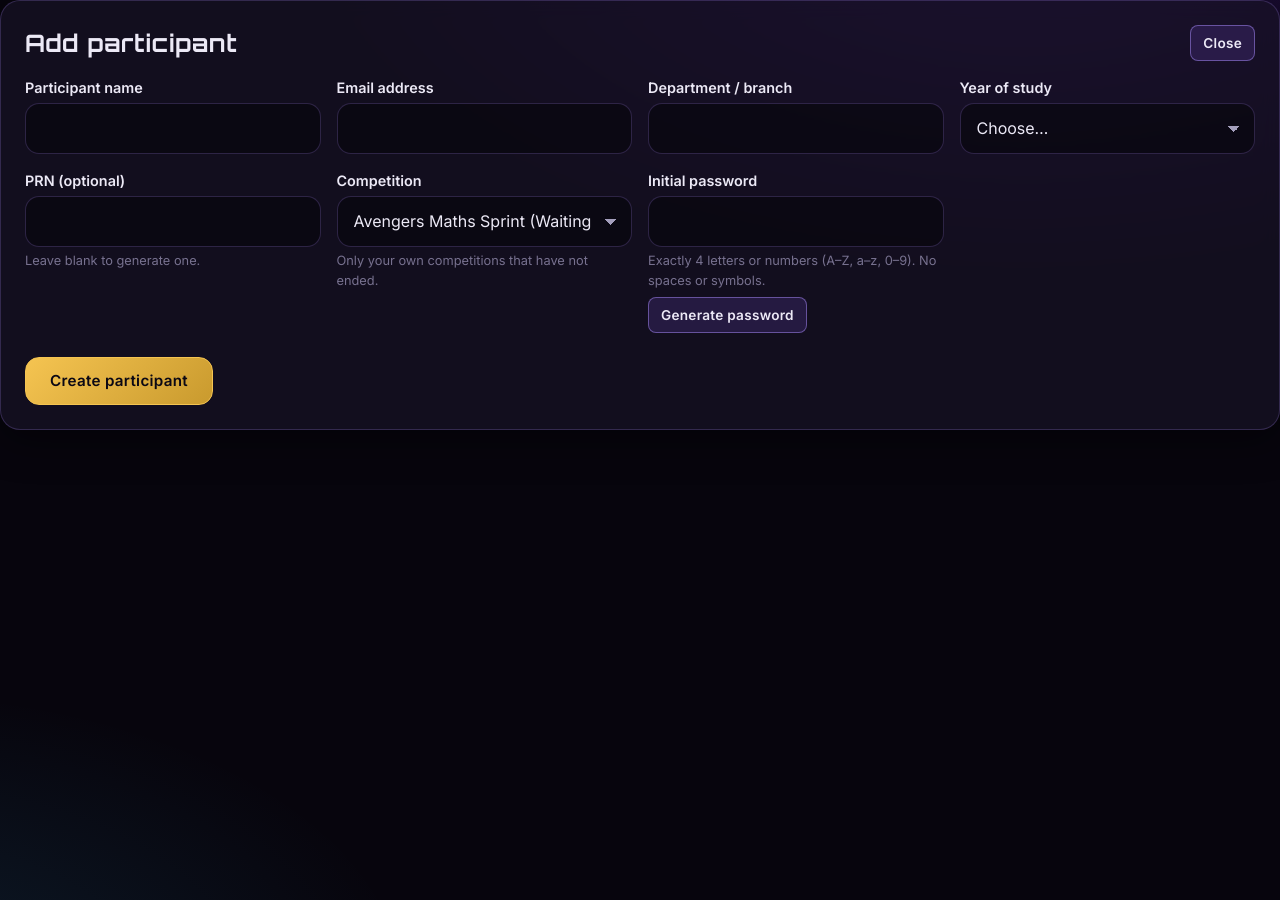
Test: AddParticipantForm › blocks submission until the password is exactly 4 characters
The width and height of the screenshot is (1280, 900).
Type "Riya Mehta" into the field labelled "Participant name" at (173, 129), box [25,103,320,154]
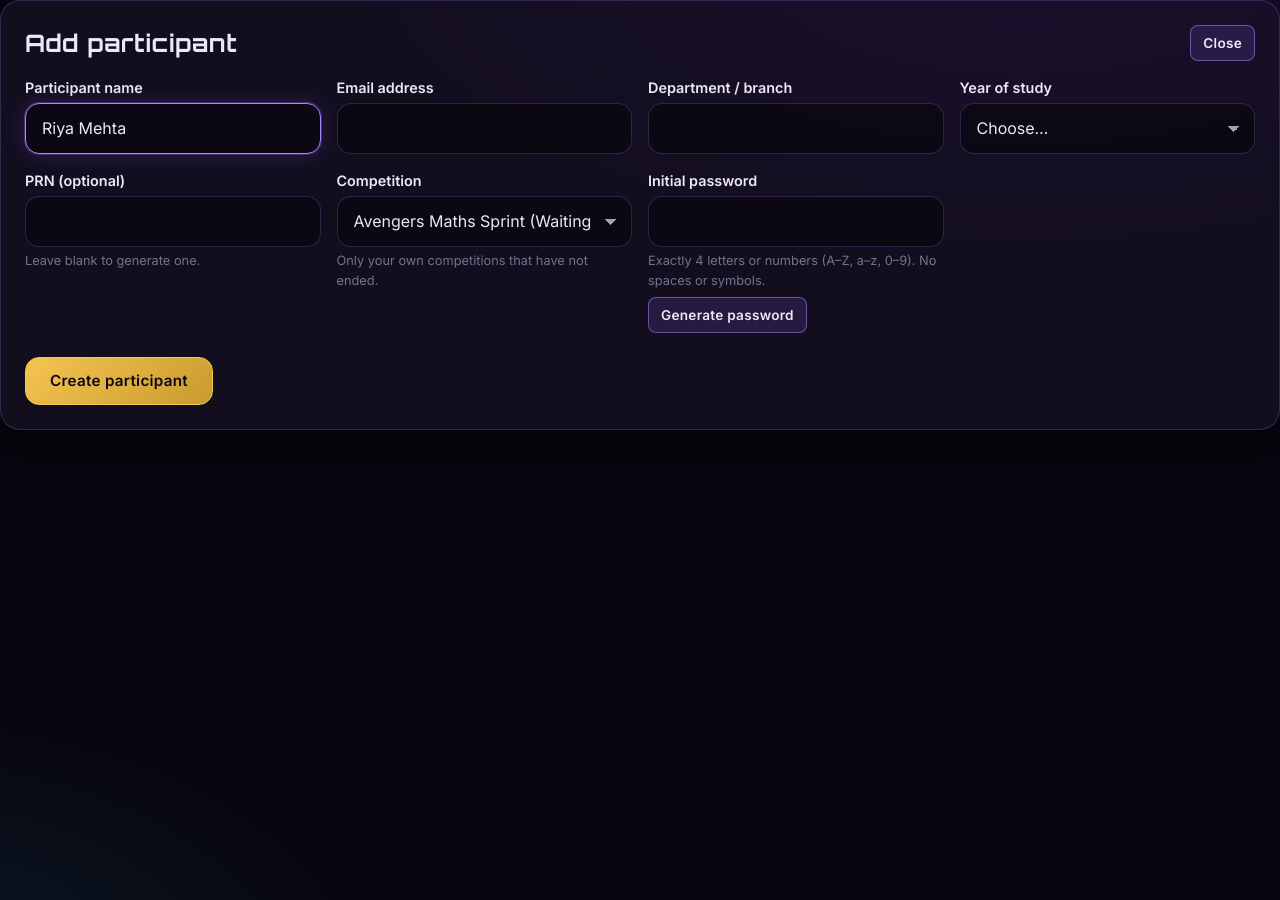
Type "riya.mehta03@gmail.com" into the field labelled "Email address" at (484, 129), box [336,103,632,154]
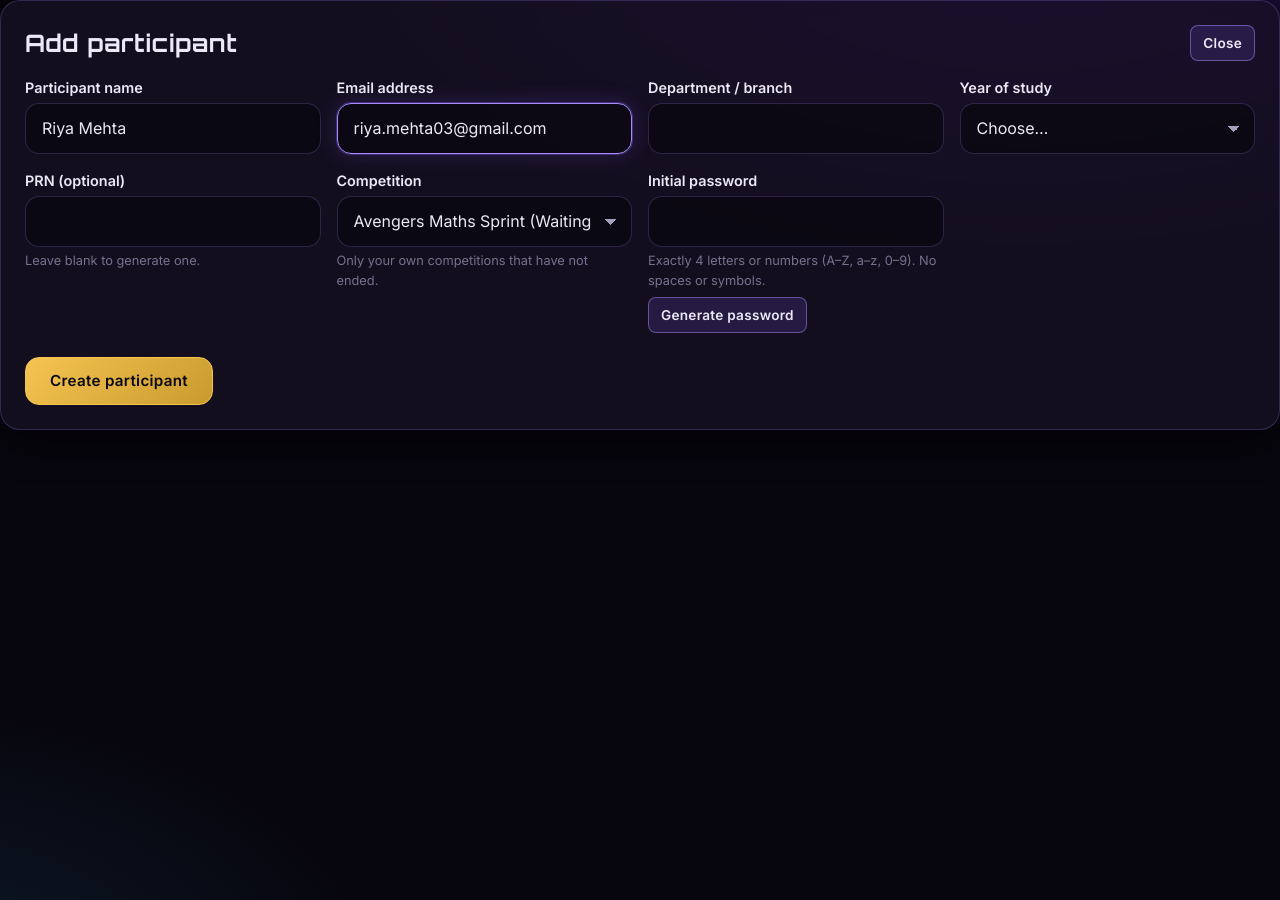
Type "Computer Engineering" into the field labelled "Department / branch" at (796, 129), box [648,103,944,154]
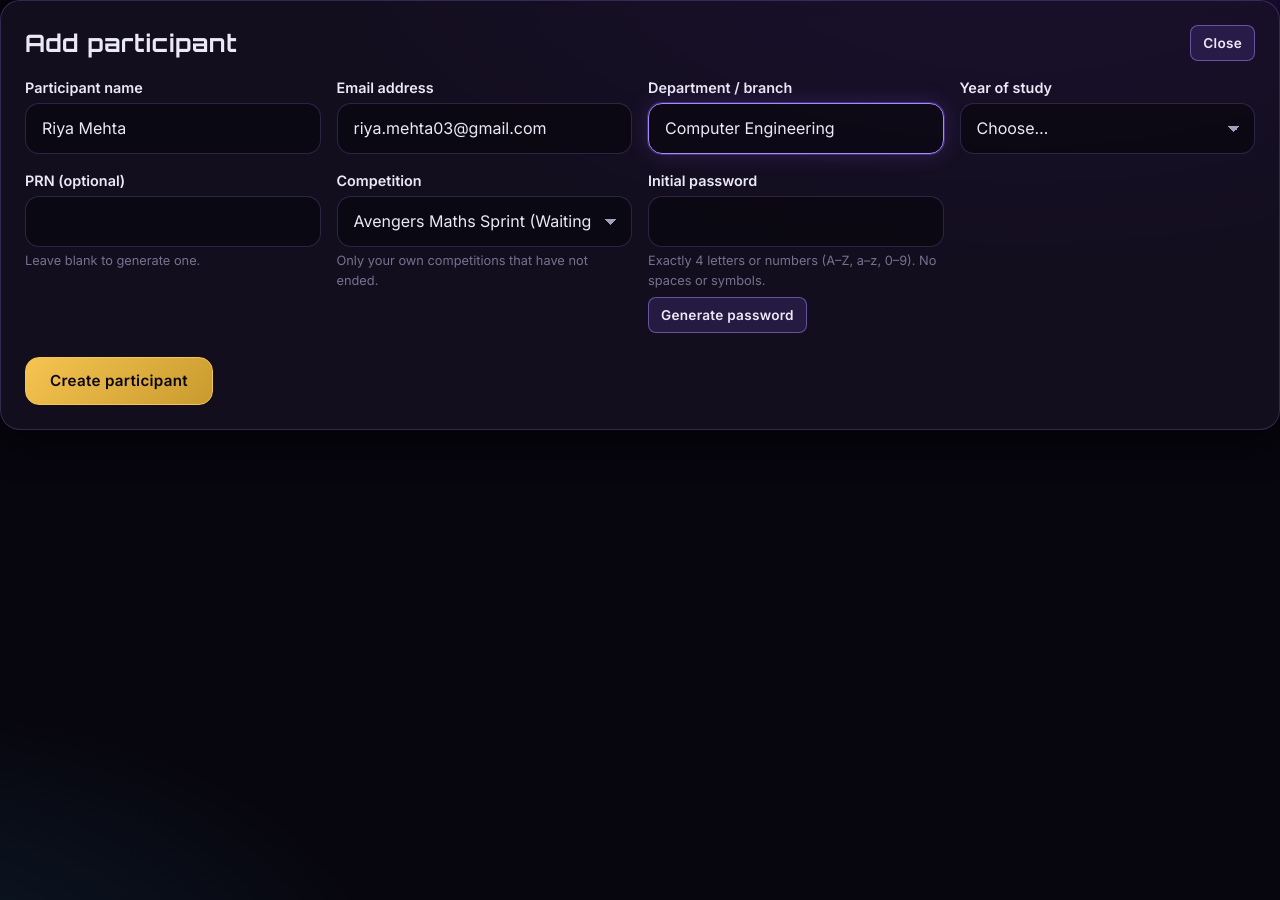
Select "FE" in the dropdown labelled "Year of study" at (1107, 129), box [960,103,1255,154]
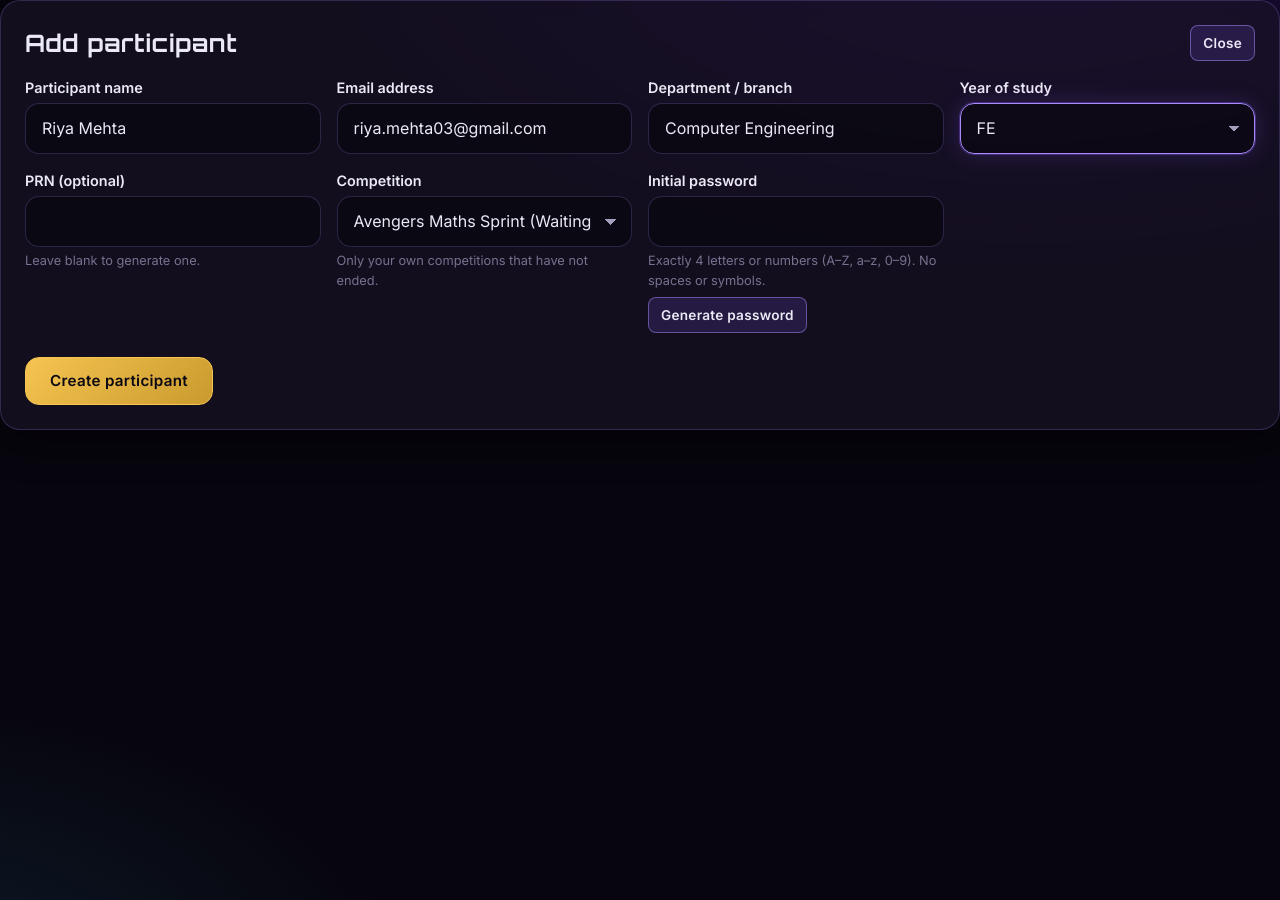
Type "ab!" into the field labelled "Initial password" at (796, 222), box [648,196,944,247]
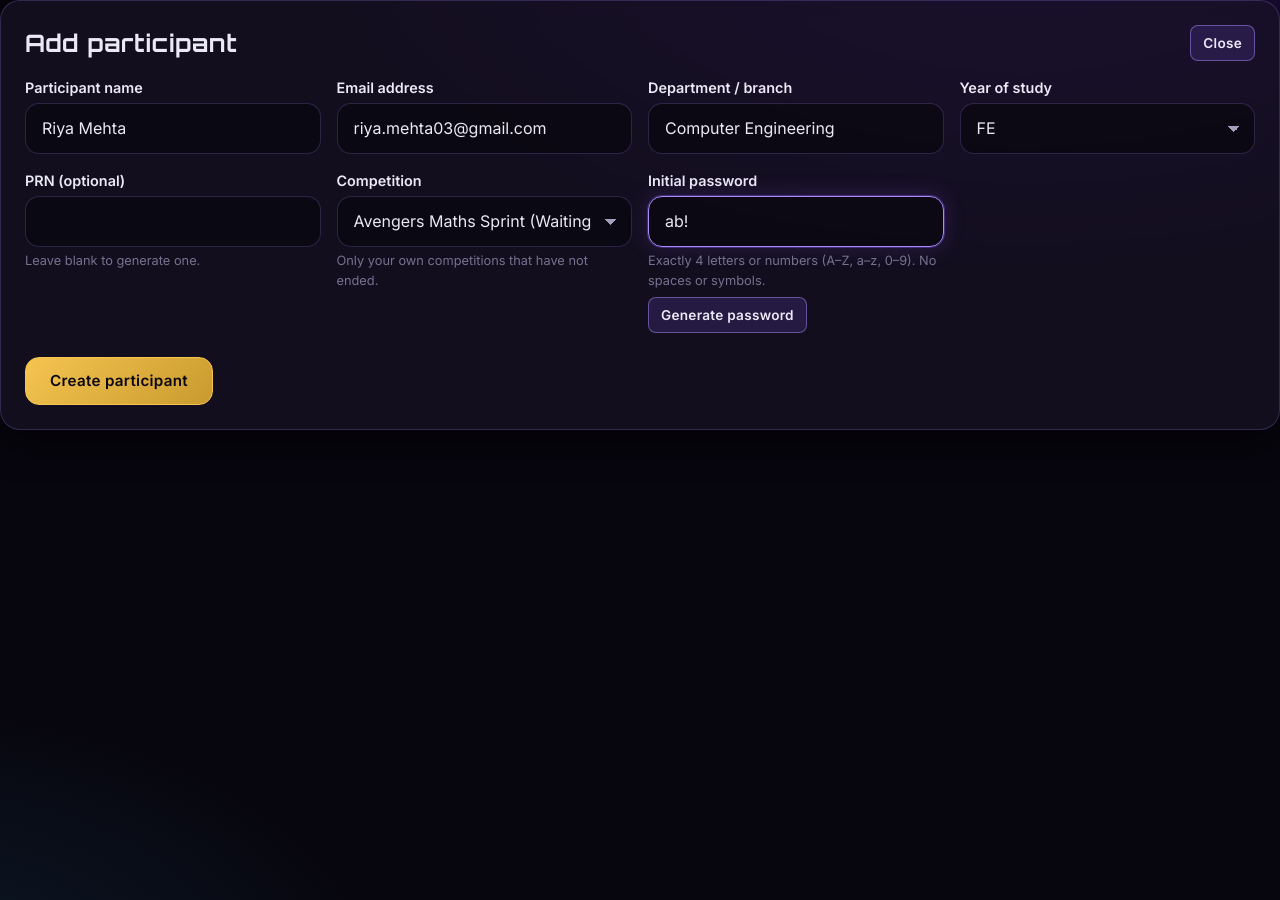
Click the button "Create participant" at (119, 381), box [25,357,213,405]
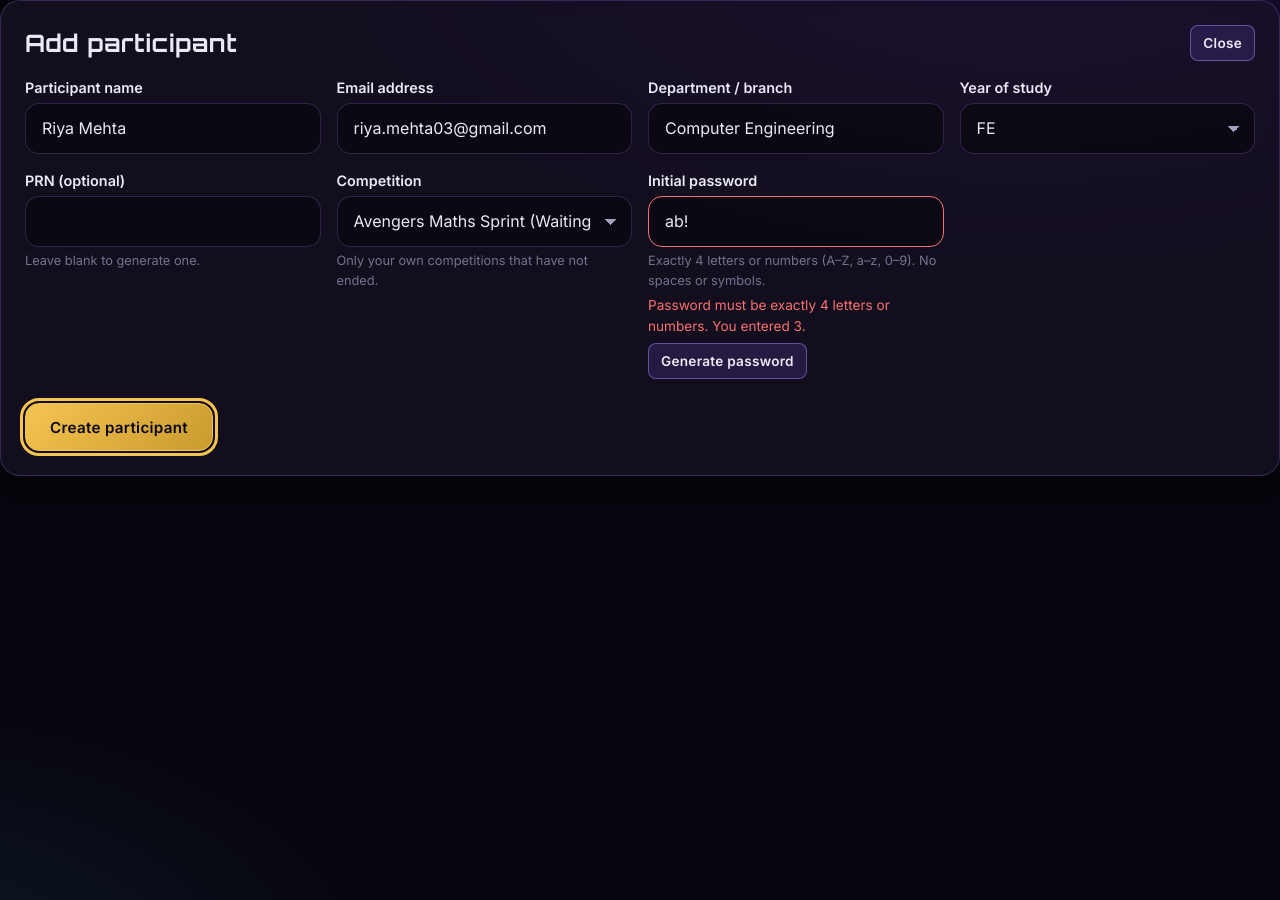
expect the text "must be exactly 4 letters or numbers" is shown: met, box [648,297,890,334]
